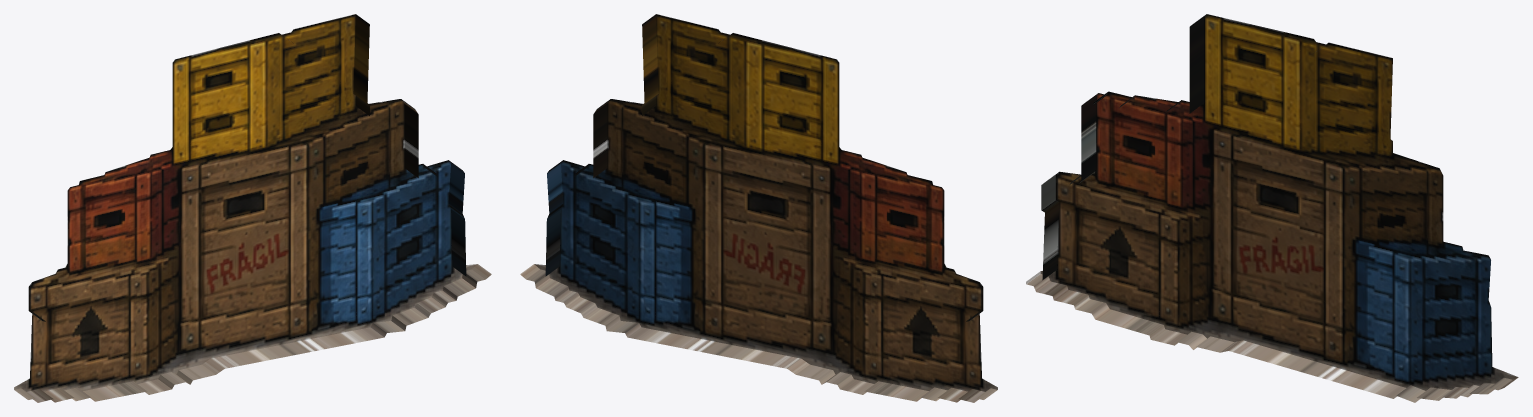
The model's file is props_05.glb.
3 views of the same model, side by side, from view 1: azimuth 30°, elevation 25°; view 2: azimuth 150°, elevation 25°; view 3: azimuth 330°, elevation 25° (orthographic). The views are drawn at different scales.
Visible parts, largest first — view 1: world; view 2: world; view 3: world.
Boxes of the visible parts, x1,y1,x2,y2 form: world: (14, 14, 491, 402); world: (520, 14, 997, 402); world: (1026, 14, 1518, 402).
Bounding box in the file's own units: 3.8 × 2.48 × 0.1992.
1 material, 1 textured.
